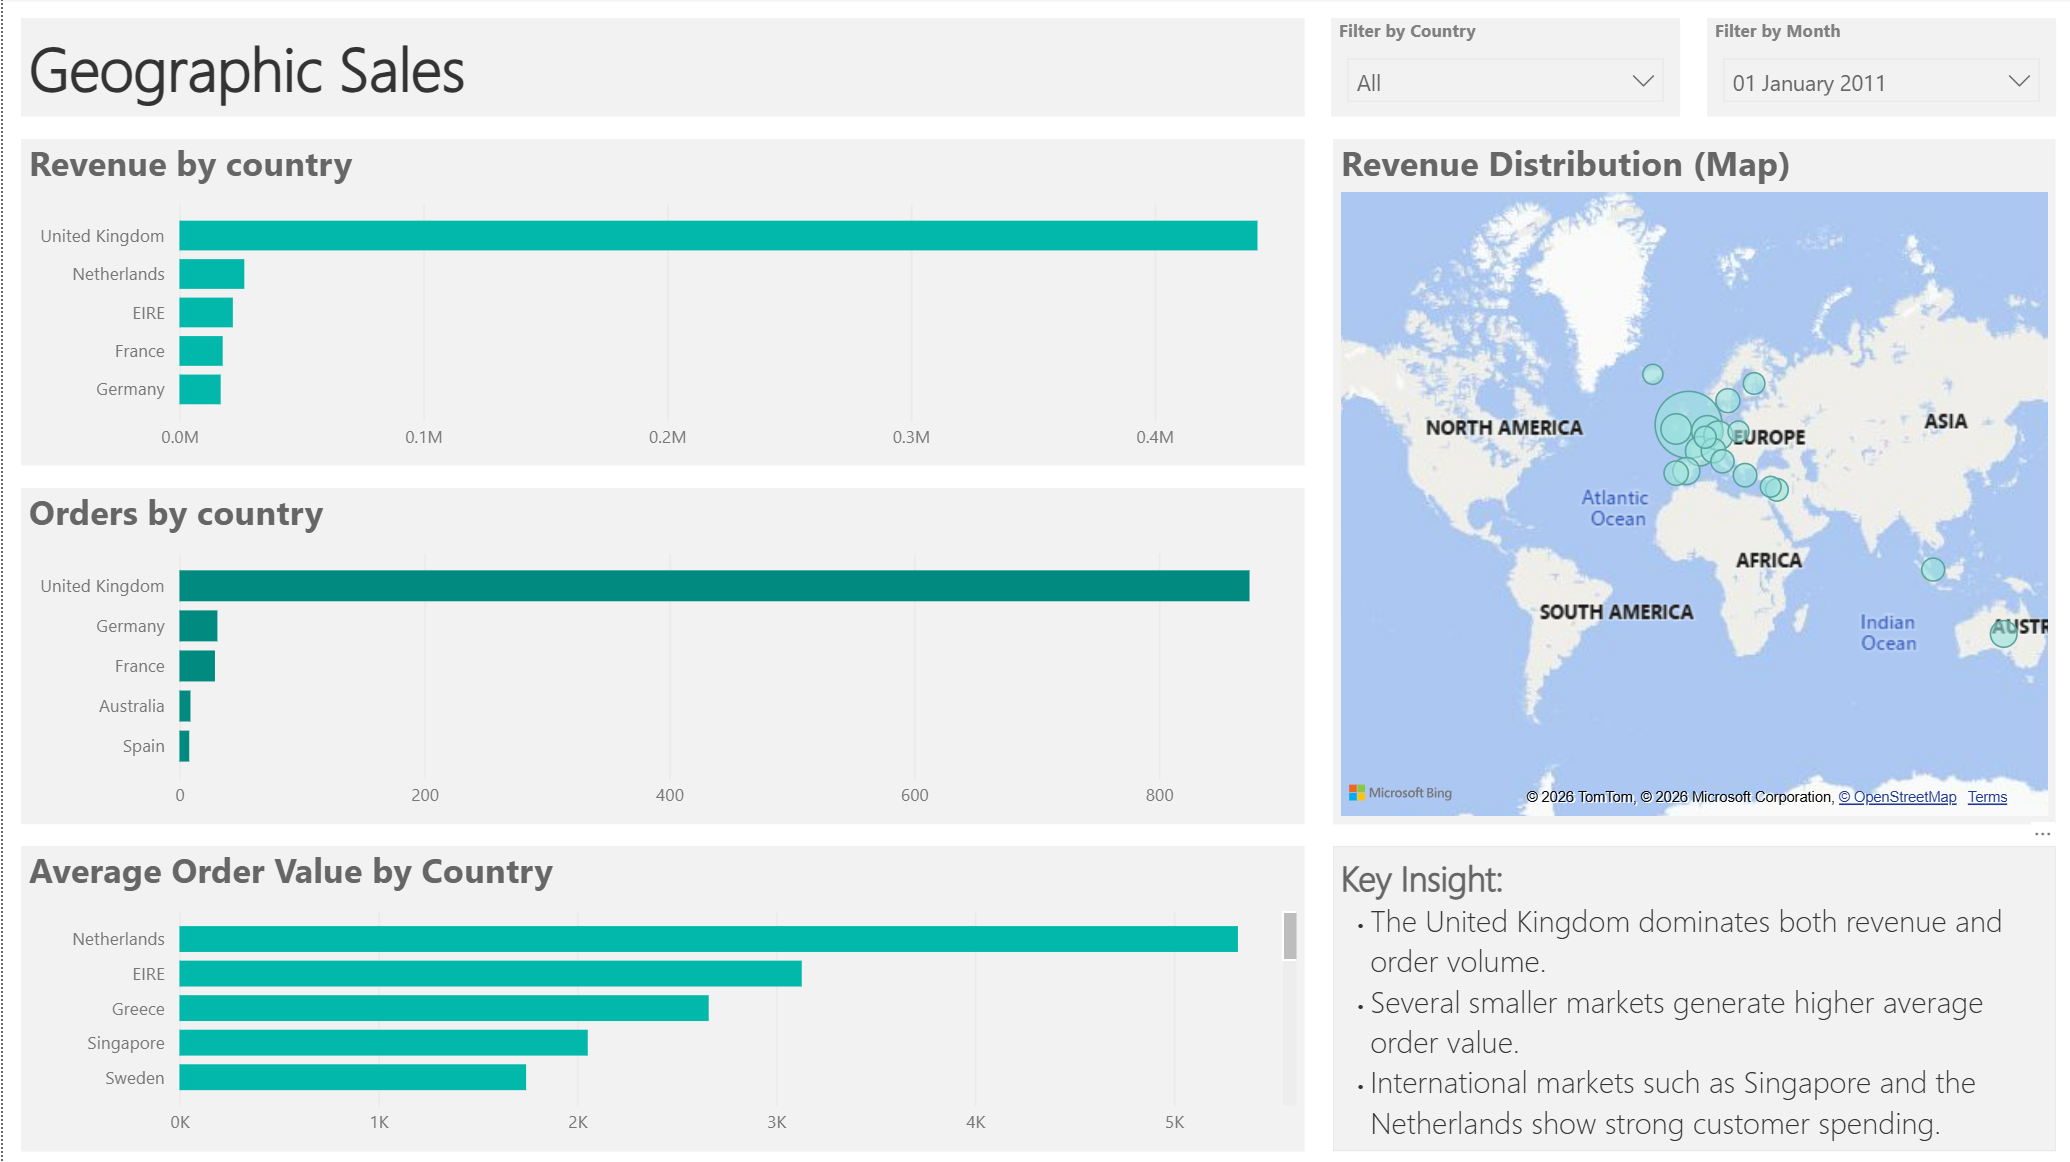

What the dashboard file says about the page in this screenshot:
{"tool":"powerbi","page":{"name":"Geographic Sales","canvas":[1280,720],"ordinal":3},"visuals":[{"type":"textbox","box":[11.1,12.4,793.6,61.2],"z":0},{"type":"map","title":"Revenue Distribution (Map)","fields":{"Category":["public v_retail_clean.country"],"Size":["public v_retail_clean.Total Revenue"]},"box":[822.7,87.2,447.2,423.7],"z":1000},{"type":"clusteredBarChart","title":"Revenue by country","fields":{"Category":["public v_retail_clean.country"],"Y":["public v_retail_clean.Total Revenue"]},"box":[11.1,87.2,793.6,202.3],"z":2000},{"type":"clusteredBarChart","title":"Orders by country","fields":{"Category":["public v_retail_clean.country"],"Y":["public v_retail_clean.Total Orders"]},"box":[11.1,303.1,793.6,207.8],"z":3000},{"type":"barChart","title":"Average Order Value by Country","fields":{"Y":["public v_retail_clean.AOV by Country"],"Category":["public v_retail_clean.country"]},"box":[11.1,524.5,793.6,188.7],"z":4000},{"type":"textbox","box":[822.7,524.5,447.2,188.7],"z":5000},{"type":"slicer","title":"Filter by Month","fields":{"Values":["public v_retail_clean.Month"]},"box":[1054,12.4,215.9,61.2],"z":6000},{"type":"slicer","title":"Filter by Country","fields":{"Values":["public v_retail_clean.country"]},"box":[821.4,12.4,215.9,61.2],"z":7000}]}

Visuals, with their boxes in screenshot pixels (x1, y1, x2, y2), scaled from the page's 1280x720 canvas onto the 2070x1162 screenshot:
textbox: {"x1": 18, "y1": 20, "x2": 1301, "y2": 119}
"Revenue Distribution (Map)" map: {"x1": 1330, "y1": 141, "x2": 2054, "y2": 825}
"Revenue by country" clusteredBarChart: {"x1": 18, "y1": 141, "x2": 1301, "y2": 467}
"Orders by country" clusteredBarChart: {"x1": 18, "y1": 489, "x2": 1301, "y2": 825}
"Average Order Value by Country" barChart: {"x1": 18, "y1": 846, "x2": 1301, "y2": 1151}
textbox: {"x1": 1330, "y1": 846, "x2": 2054, "y2": 1151}
"Filter by Month" slicer: {"x1": 1705, "y1": 20, "x2": 2054, "y2": 119}
"Filter by Country" slicer: {"x1": 1328, "y1": 20, "x2": 1678, "y2": 119}
